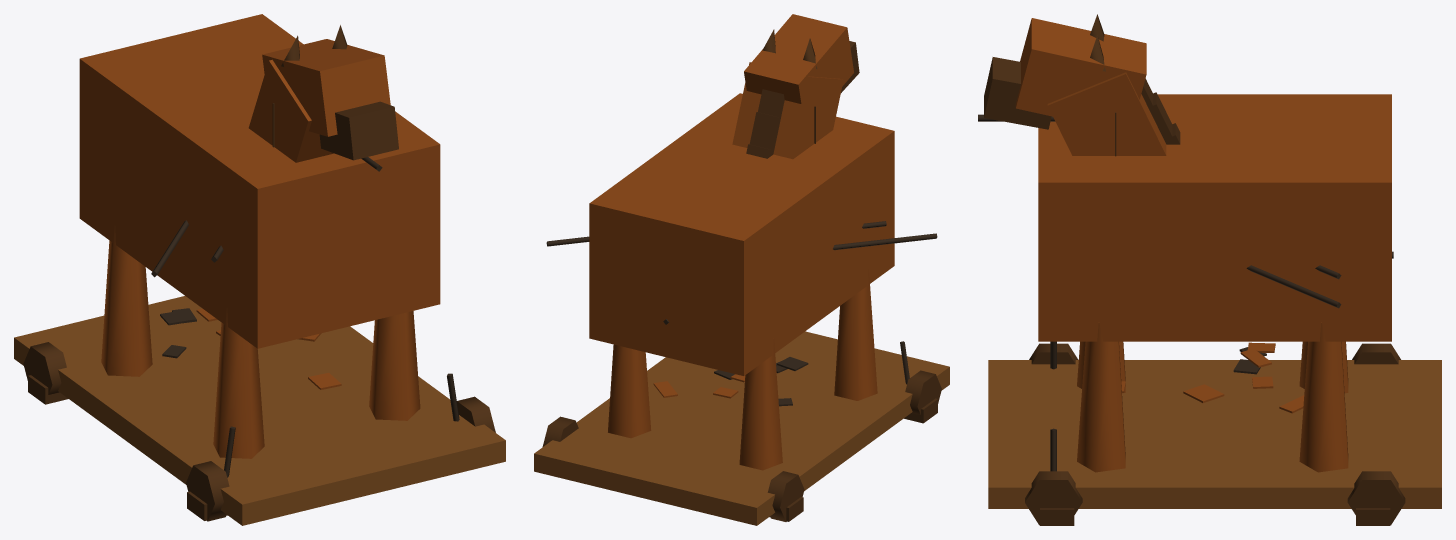
The model's file is citadelTrojanHorse.glb.
The picture shows the model from 3 angles, left to right: view 1: azimuth 30°, elevation 25°; view 2: azimuth 150°, elevation 25°; view 3: azimuth 270°, elevation 25°; orthographic projection. The views are drawn at different scales.
Parts seen in each view (by area): view 1: troy-torso, troy-plank-platform, troy-head, troy-leg.002, troy-leg, troy-leg.001, troy-neck, troy-snout, troy-wheel, troy-wheel.002, troy-wheel.001; view 2: troy-torso, troy-plank-platform, troy-head, troy-neck, troy-leg.002, troy-leg, troy-leg.003, troy-wheel.002, troy-wheel, troy-mane.001, troy-body-rib, troy-mane (+1 smaller); view 3: troy-torso, troy-plank-platform, troy-head, troy-neck, troy-leg.003, troy-leg.001, troy-snout, troy-wheel.003, troy-wheel.001, troy-wheel.002, troy-wheel, troy-body-rib.002 (+4 smaller).
Boxes of the visible parts, left/top/right/bottom form: troy-torso: left=79, top=14, right=440, bottom=348; troy-plank-platform: left=14, top=296, right=505, bottom=525; troy-head: left=262, top=39, right=390, bottom=136; troy-leg.002: left=101, top=225, right=152, bottom=376; troy-leg: left=213, top=308, right=264, bottom=458; troy-leg.001: left=369, top=311, right=420, bottom=420; troy-neck: left=248, top=59, right=333, bottom=162; troy-snout: left=319, top=101, right=398, bottom=160; troy-wheel: left=186, top=461, right=229, bottom=521; troy-wheel.002: left=23, top=342, right=66, bottom=394; troy-wheel.001: left=457, top=396, right=495, bottom=432; troy-torso: left=589, top=93, right=894, bottom=375; troy-plank-platform: left=534, top=331, right=949, bottom=525; troy-head: left=744, top=14, right=853, bottom=103; troy-neck: left=732, top=62, right=843, bottom=159; troy-leg.002: left=739, top=338, right=782, bottom=470; troy-leg: left=834, top=269, right=877, bottom=400; troy-leg.003: left=608, top=344, right=651, bottom=438; troy-wheel.002: left=767, top=471, right=804, bottom=521; troy-wheel: left=905, top=370, right=941, bottom=415; troy-mane.001: left=749, top=112, right=779, bottom=153; troy-body-rib: left=833, top=233, right=937, bottom=250; troy-mane: left=758, top=89, right=784, bottom=127; troy-torso: left=1038, top=94, right=1391, bottom=341; troy-plank-platform: left=988, top=360, right=1441, bottom=508; troy-head: left=1015, top=18, right=1146, bottom=116; troy-neck: left=1047, top=72, right=1166, bottom=155; troy-leg.003: left=1299, top=322, right=1348, bottom=472; troy-leg.001: left=1077, top=323, right=1125, bottom=472; troy-snout: left=984, top=57, right=1051, bottom=129; troy-wheel.003: left=1347, top=471, right=1405, bottom=525; troy-wheel.001: left=1025, top=471, right=1082, bottom=525; troy-wheel.002: left=1352, top=343, right=1400, bottom=364; troy-wheel: left=1029, top=343, right=1078, bottom=364; troy-body-rib.002: left=1246, top=265, right=1341, bottom=308.
Size of the model in its own units: 5.68 by 6.95 by 6.75.
